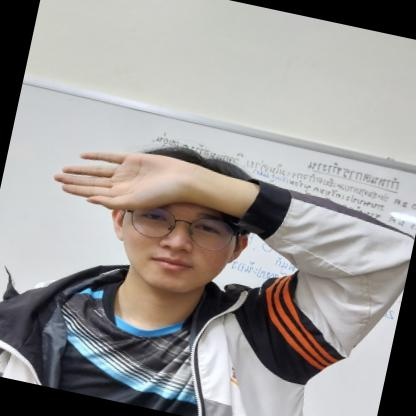Not OK: (43, 127, 246, 244)
